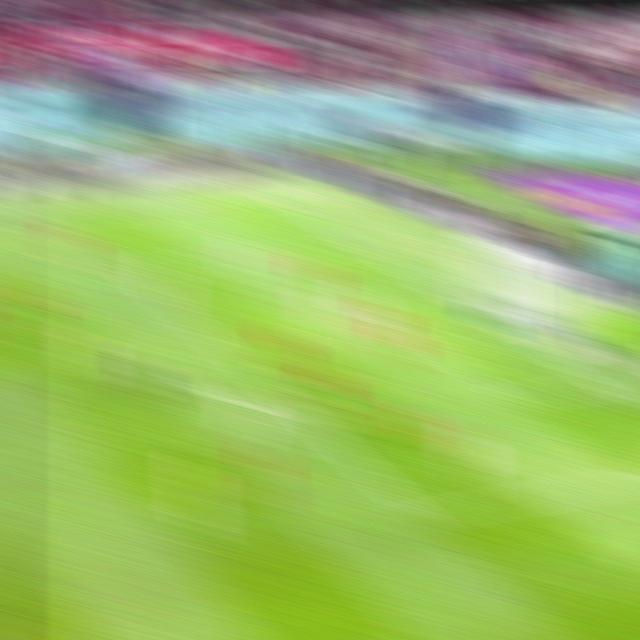bigarea_bottom_inner: (403, 502, 441, 530)
bigarea_top_inner: (108, 259, 144, 280)
bigarea_top_outter: (339, 237, 371, 254)
bottom_arc_area_intersection: (284, 404, 319, 426)
corner: (259, 193, 293, 208)
smallarea_bottom_inner: (492, 384, 529, 412)
smallarea_bottom_outter: (581, 373, 618, 395)
smallarea_top_outter: (417, 278, 450, 299)
top_arc_area_intersection: (181, 318, 214, 338)
